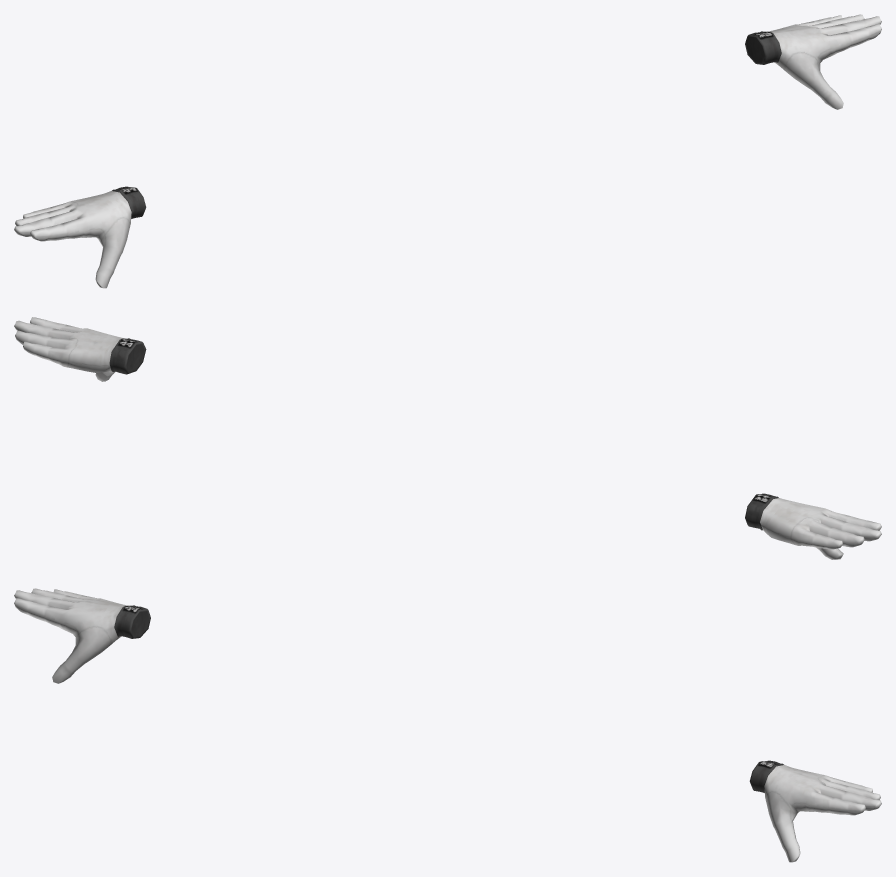
The model's file is p0_glv0006_00_glv00.gltf.
3 renders of one model, top to bottom at view 1: azimuth 30°, elevation 25°; view 2: azimuth 150°, elevation 25°; view 3: azimuth 330°, elevation 25°, orthographic.
Visible parts, largest first — view 1: glv00_glove_mesh_shape:glove; view 2: glv00_glove_mesh_shape:glove; view 3: glv00_glove_mesh_shape:glove.
Part boxes in pixels (x1,y1,x2,y2): glv00_glove_mesh_shape:glove: (14,14,881,288); glv00_glove_mesh_shape:glove: (14,317,881,559); glv00_glove_mesh_shape:glove: (14,588,881,862).
Size of what is drawn, in the model's own units: 1.36 by 0.1045 by 0.1186.
1 material, 1 textured.
